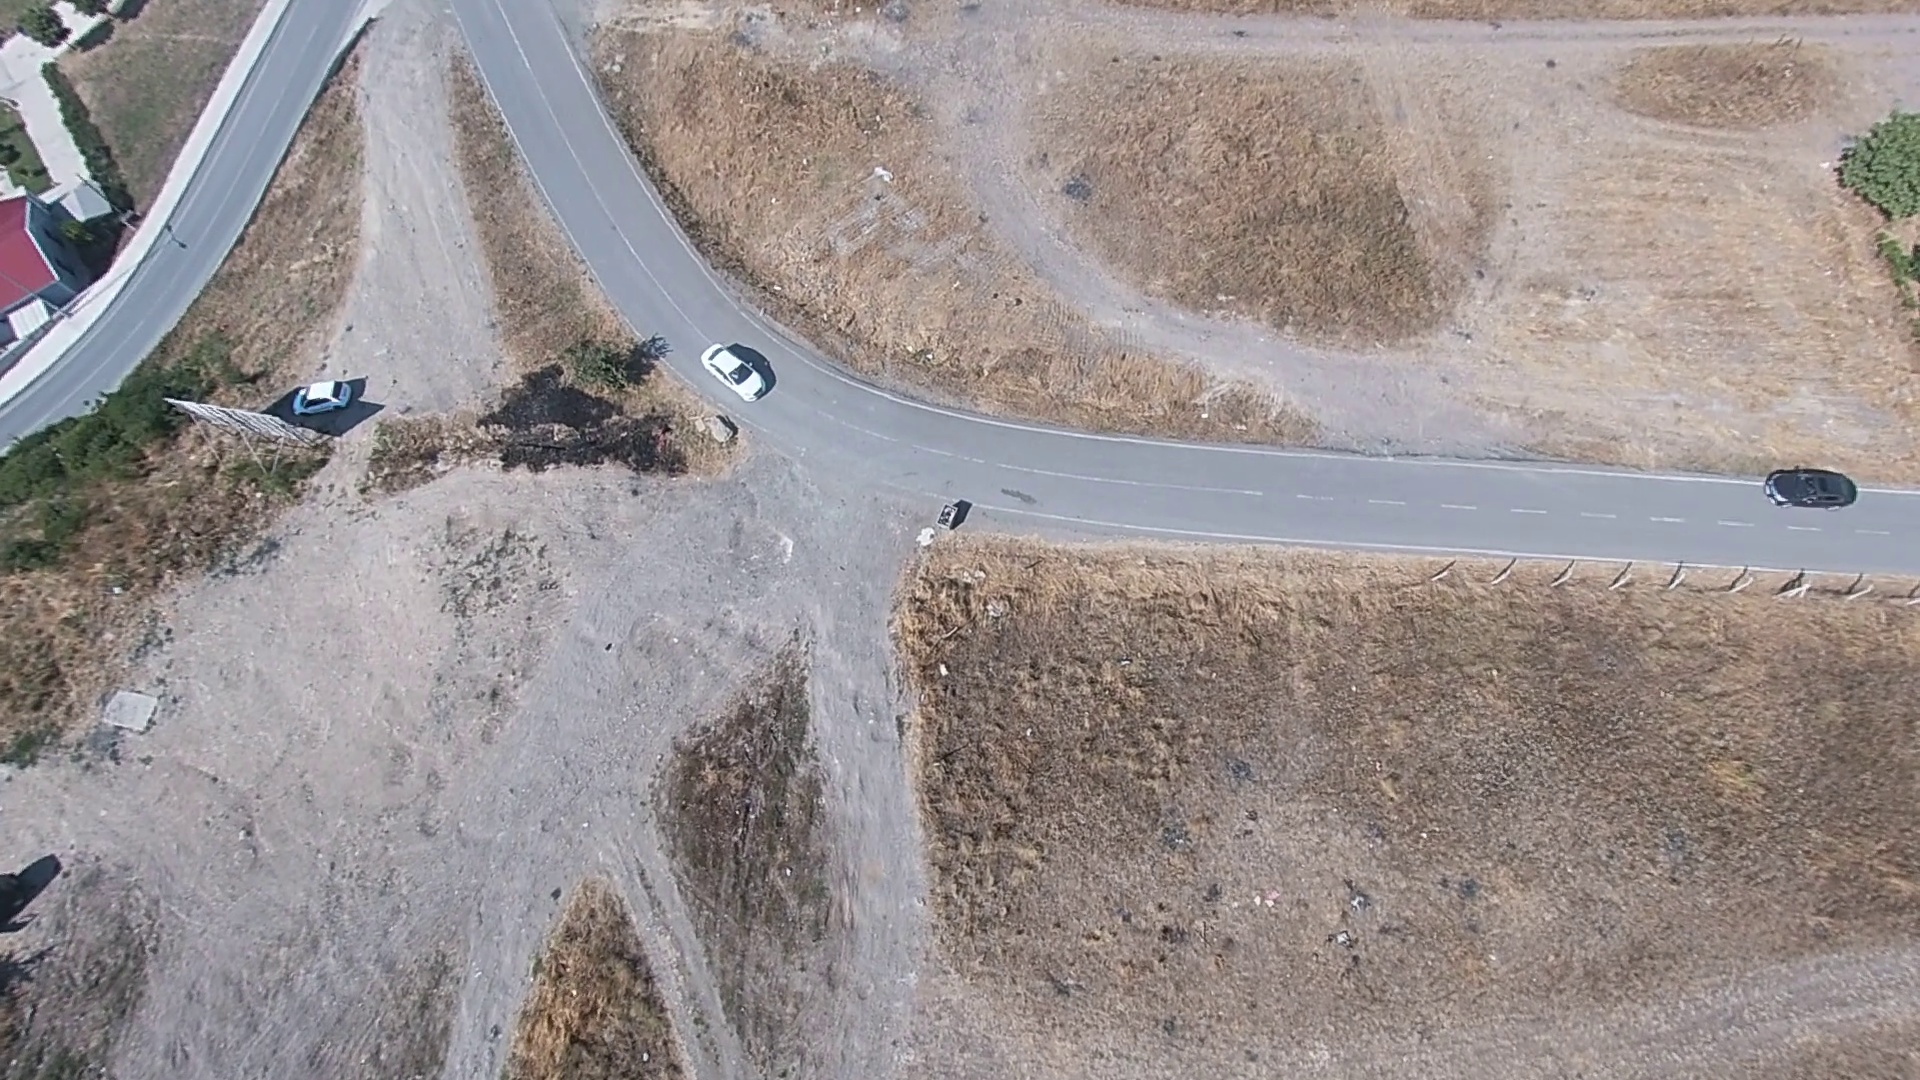arac: (1753, 455, 1886, 522), (698, 336, 773, 400), (284, 373, 361, 413)
